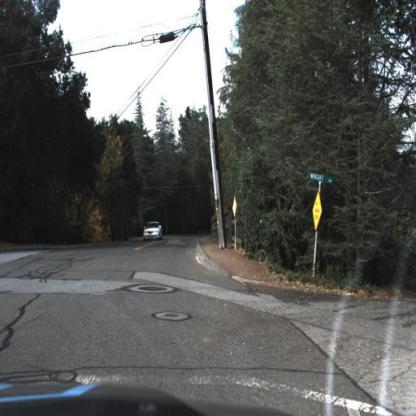car: (143, 220, 165, 242)
